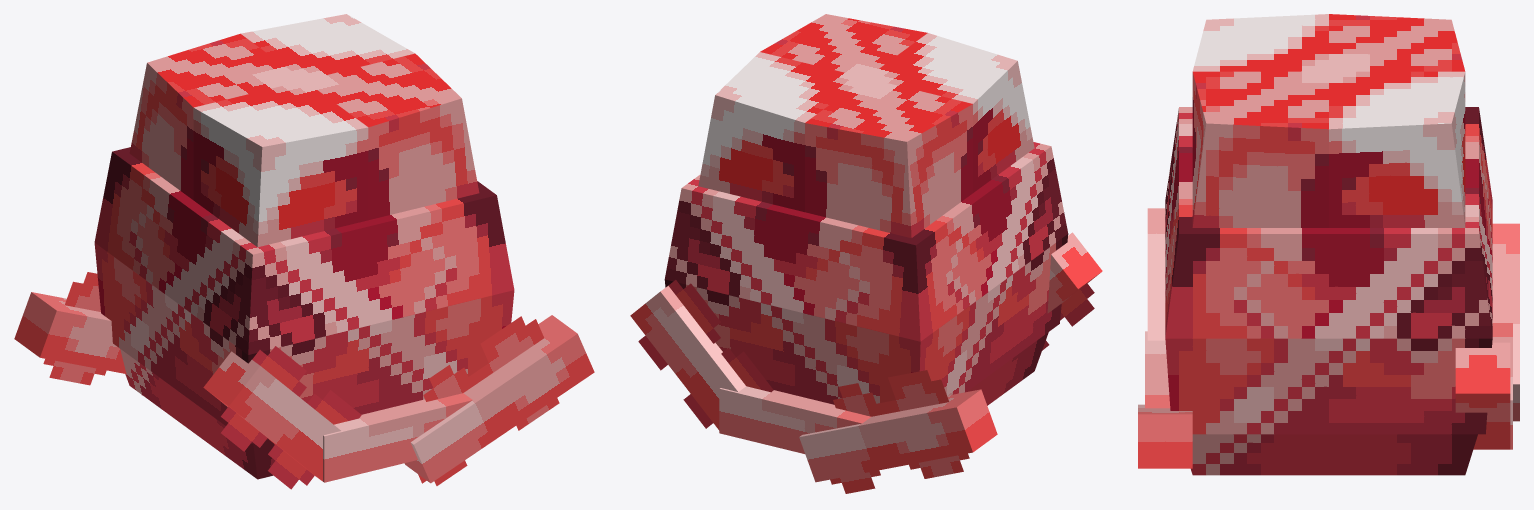
Rendered from leonid-egg.gltf.
The picture shows the model from 3 angles, left to right: view 1: azimuth 30°, elevation 25°; view 2: azimuth 150°, elevation 25°; view 3: azimuth 270°, elevation 25°; orthographic projection. The views are drawn at different scales.
Parts seen in each view (by area): view 1: cube (×10); view 2: cube (×10); view 3: cube (×9).
Boxes of the visible parts, left/top/right/bottom form: cube (×10): left=14, top=14, right=594, bottom=489; cube (×10): left=630, top=14, right=1102, bottom=493; cube (×9): left=1138, top=14, right=1519, bottom=475.
Size of the model in its own units: 1.18 by 0.9898 by 0.875.
Materials: 2 (2 with a texture image).
